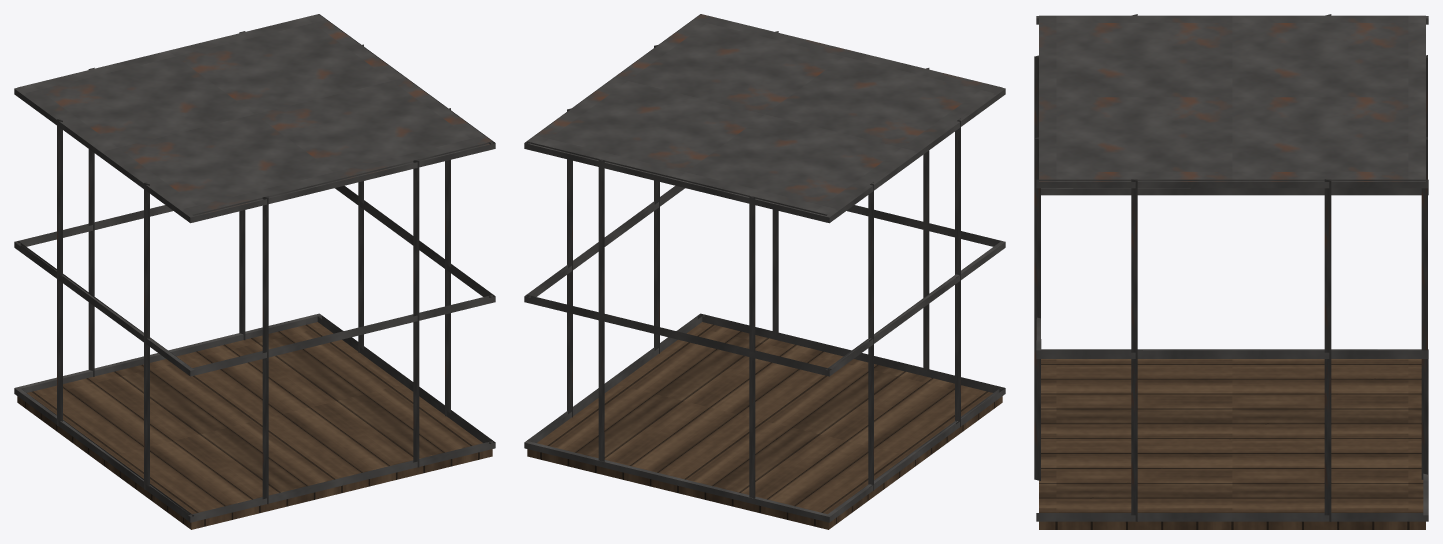
The model's file is Cage_Large_LOD2.gltf.
3 renders of one model, left to right at view 1: azimuth 30°, elevation 25°; view 2: azimuth 150°, elevation 25°; view 3: azimuth 270°, elevation 25°, orthographic. The views are drawn at different scales.
Visible parts, largest first — view 1: Cage_Large_LOD2; view 2: Cage_Large_LOD2; view 3: Cage_Large_LOD2.
Part boxes in pixels (x1,y1,x2,y2): Cage_Large_LOD2: (14, 14, 495, 529); Cage_Large_LOD2: (524, 14, 1005, 529); Cage_Large_LOD2: (1034, 14, 1428, 529).
Bounding box in the file's own units: 2.24 × 2.2 × 2.24.
2 materials, 2 textured.
